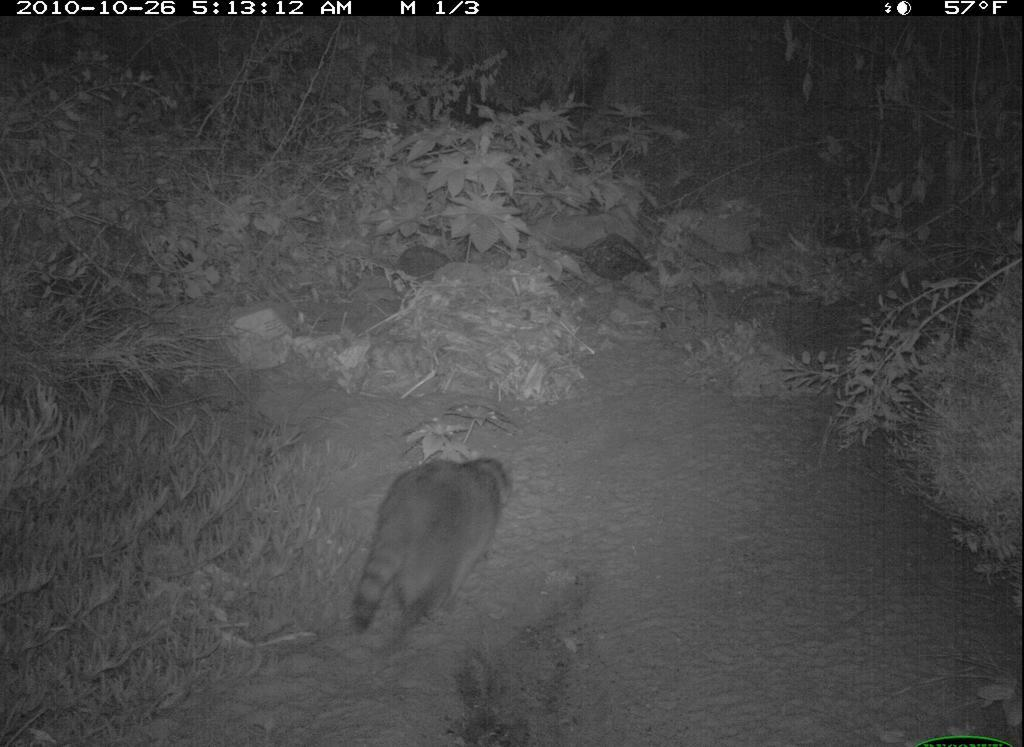raccoon: (333, 445, 524, 656)
